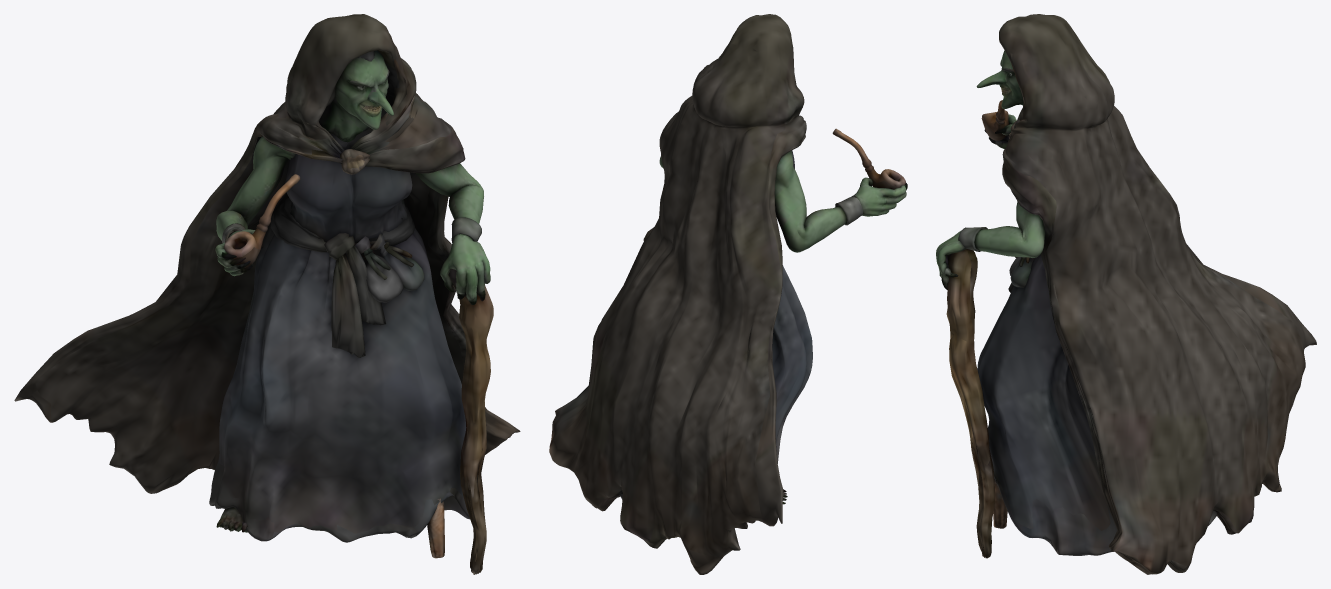
Rendered from MZ4250 - Witch_4 2025.glb.
The picture shows the model from 3 angles, left to right: view 1: azimuth 30°, elevation 25°; view 2: azimuth 150°, elevation 25°; view 3: azimuth 270°, elevation 25°; orthographic projection. The views are drawn at different scales.
Visible parts, largest first — view 1: Witch2025.002; view 2: Witch2025.002; view 3: Witch2025.002.
Part boxes in pixels (left/top/right/bottom): Witch2025.002: left=14, top=14, right=520, bottom=574; Witch2025.002: left=549, top=14, right=907, bottom=574; Witch2025.002: left=936, top=14, right=1316, bottom=574.
Bounding box in the file's own units: 67.86 × 93.43 × 64.
Materials: 2 (2 with a texture image).
